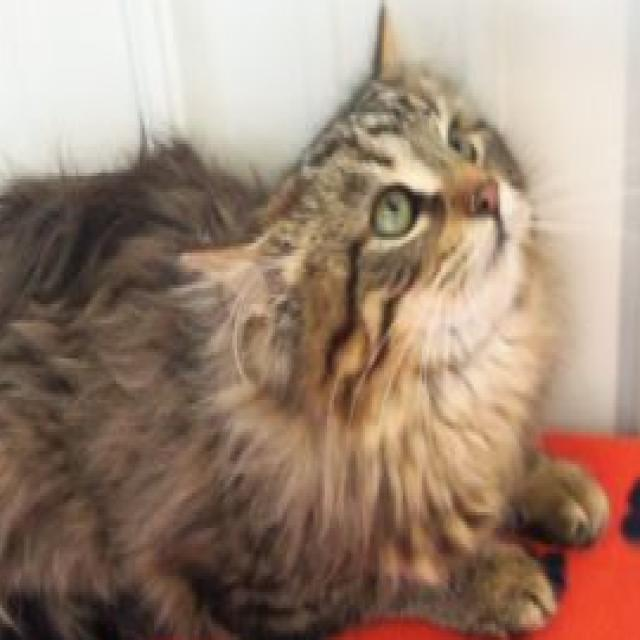Maine Coon: (0, 0, 612, 640)
